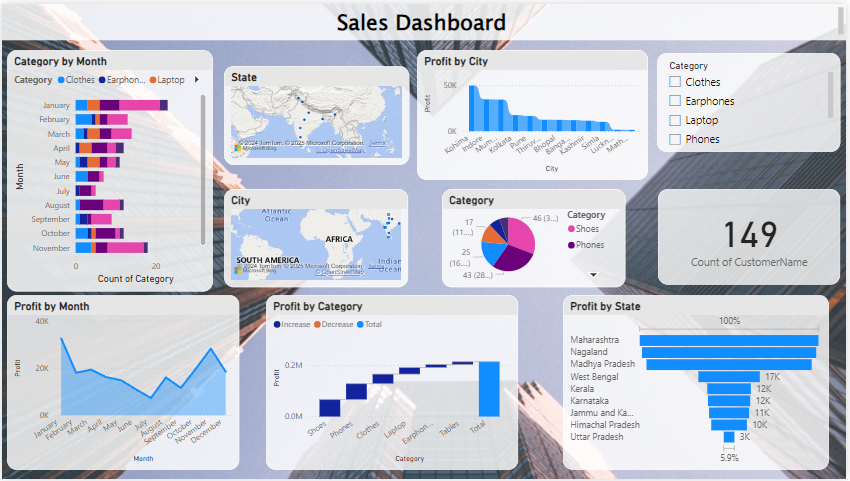

Layout of this report page (visuals, bound fields, positions):
{"tool":"powerbi","page":{"name":"Page 1","canvas":[1280,720],"ordinal":0},"visuals":[{"type":"barChart","title":"Category by Month","fields":{"Category":["Orders.Order Date.Variation.Date Hierarchy.Month"],"Series":["Orders.Category"],"Y":["CountNonNull(Orders.Category)"]},"box":[7.1,69.4,311.8,365.7],"z":0},{"type":"areaChart","fields":{"Category":["Orders.Order Date.Variation.Date Hierarchy.Month"],"Y":["Orders.Profit"]},"box":[7.6,440.9,351.5,265.2],"z":1000},{"type":"map","fields":{"Category":["Orders.State"]},"box":[335.9,93.5,280.6,150.2],"z":2000},{"type":"map","fields":{"Category":["Orders.City"]},"box":[335.9,280.6,279.2,148.8],"z":3000},{"type":"waterfallChart","fields":{"Category":["Orders.Category"],"Y":["Orders.Profit"]},"box":[400,440.9,381.8,265.2],"z":4000},{"type":"slicer","fields":{"Values":["Orders.Category"]},"box":[992.1,73.7,277.8,150.2],"z":5000},{"type":"funnel","fields":{"Category":["Orders.State"],"Y":["Orders.Profit"]},"box":[850,440.9,403,265.2],"z":6000},{"type":"ribbonChart","fields":{"Category":["Orders.City"],"Y":["Orders.Profit"]},"box":[629.3,69.4,350.1,197],"z":7000},{"type":"pieChart","title":"Category","fields":{"Y":["CountNonNull(Orders.Category)"],"Category":["Orders.Category"]},"box":[666.1,280.6,277.8,148.8],"z":8000},{"type":"card","fields":{"Values":["CountNonNull(Orders.CustomerName)"]},"box":[993.5,280.6,276.4,144.6],"z":9000},{"type":"textbox","box":[0,0,1280,55],"z":10000}]}

Visuals, with their boxes in screenshot pixels (x1, y1, x2, y2), scaled from the page's 1280x720 canvas onto the 850x481 screenshot:
"Category by Month" barChart: bbox(5, 46, 212, 291)
areaChart - Orders.Order Date.Variation.Date Hierarchy.Month x Orders.Profit: bbox(5, 295, 238, 472)
map - Orders.State: bbox(223, 62, 409, 163)
map - Orders.City: bbox(223, 187, 408, 287)
waterfallChart - Orders.Category x Orders.Profit: bbox(266, 295, 519, 472)
slicer - Orders.Category: bbox(659, 49, 843, 150)
funnel - Orders.State x Orders.Profit: bbox(564, 295, 832, 472)
ribbonChart - Orders.City x Orders.Profit: bbox(418, 46, 650, 178)
"Category" pieChart: bbox(442, 187, 627, 287)
card - CountNonNull(Orders.CustomerName): bbox(660, 187, 843, 284)
textbox: bbox(0, 0, 849, 37)
